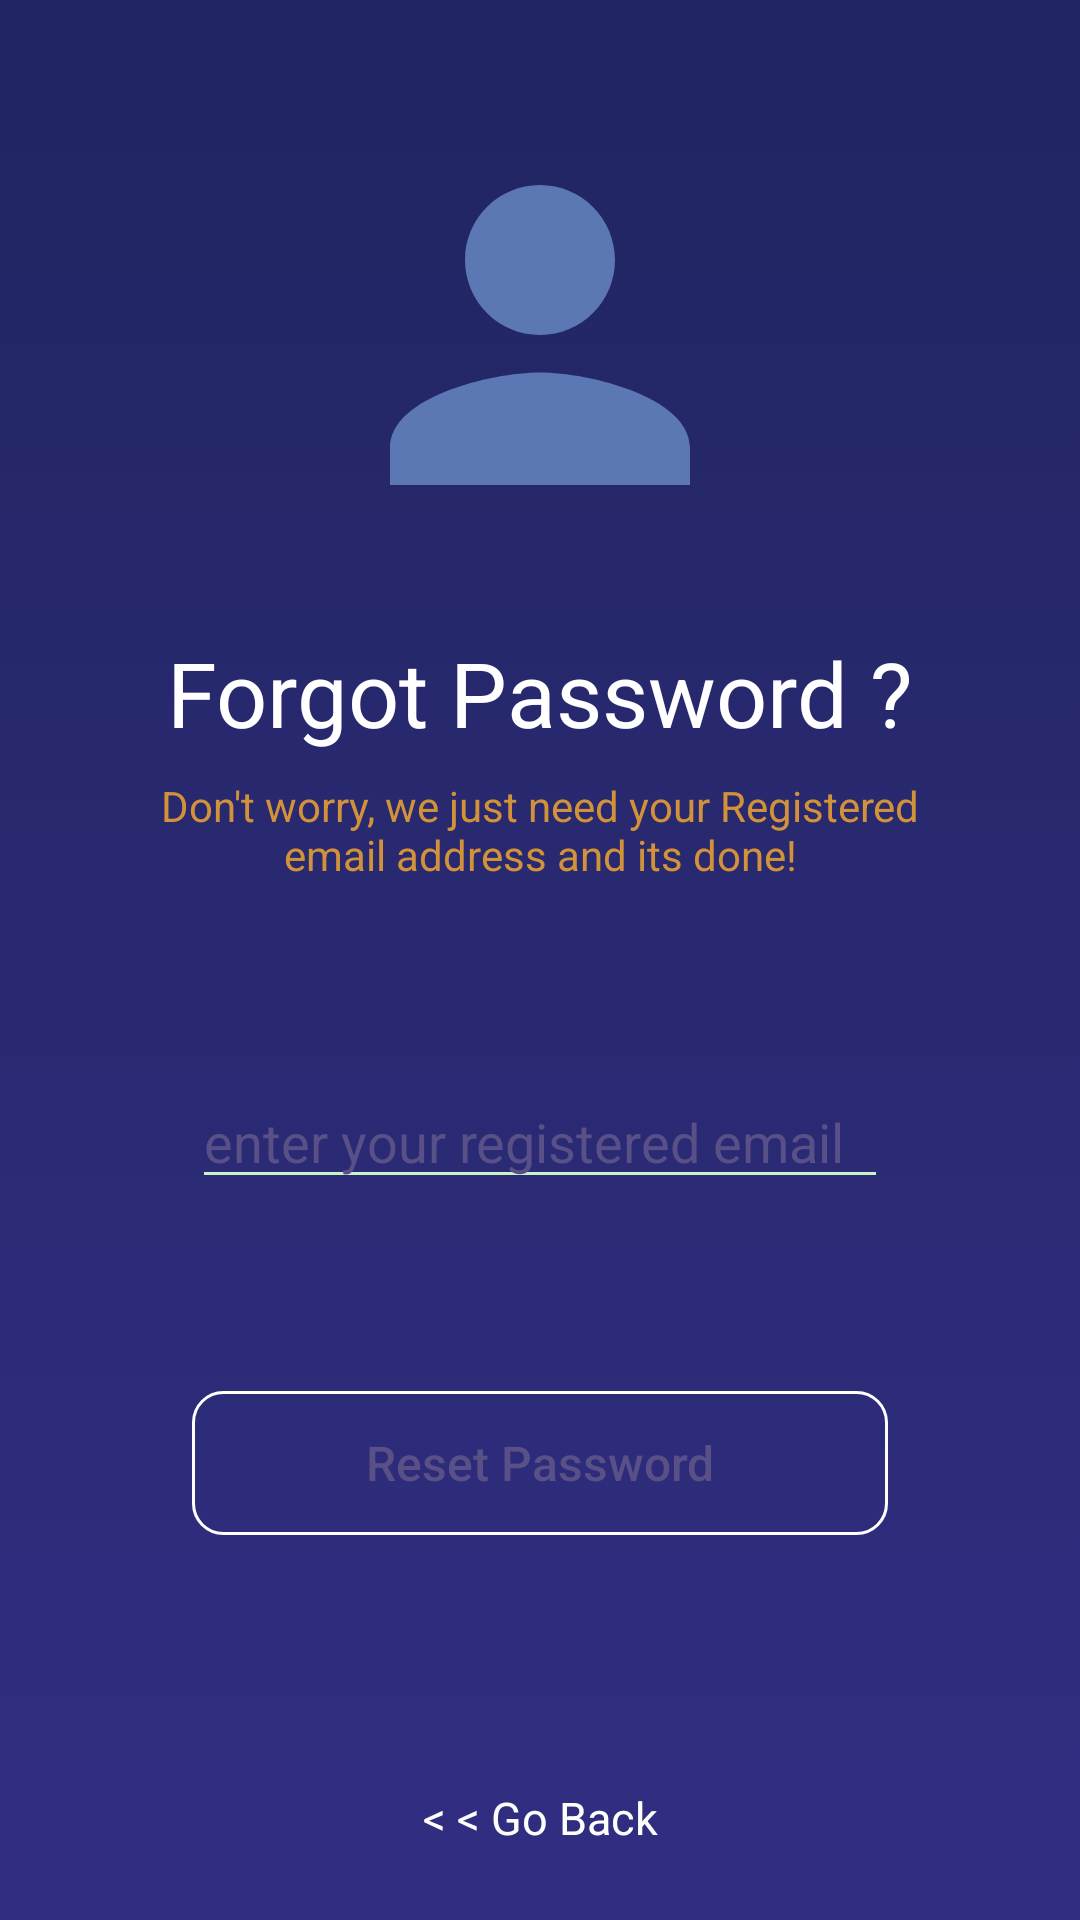

Icons on this 1080×1920 Android screen, each with its box as (x1, y1, x2, y2):
person: (390, 185, 690, 485)
